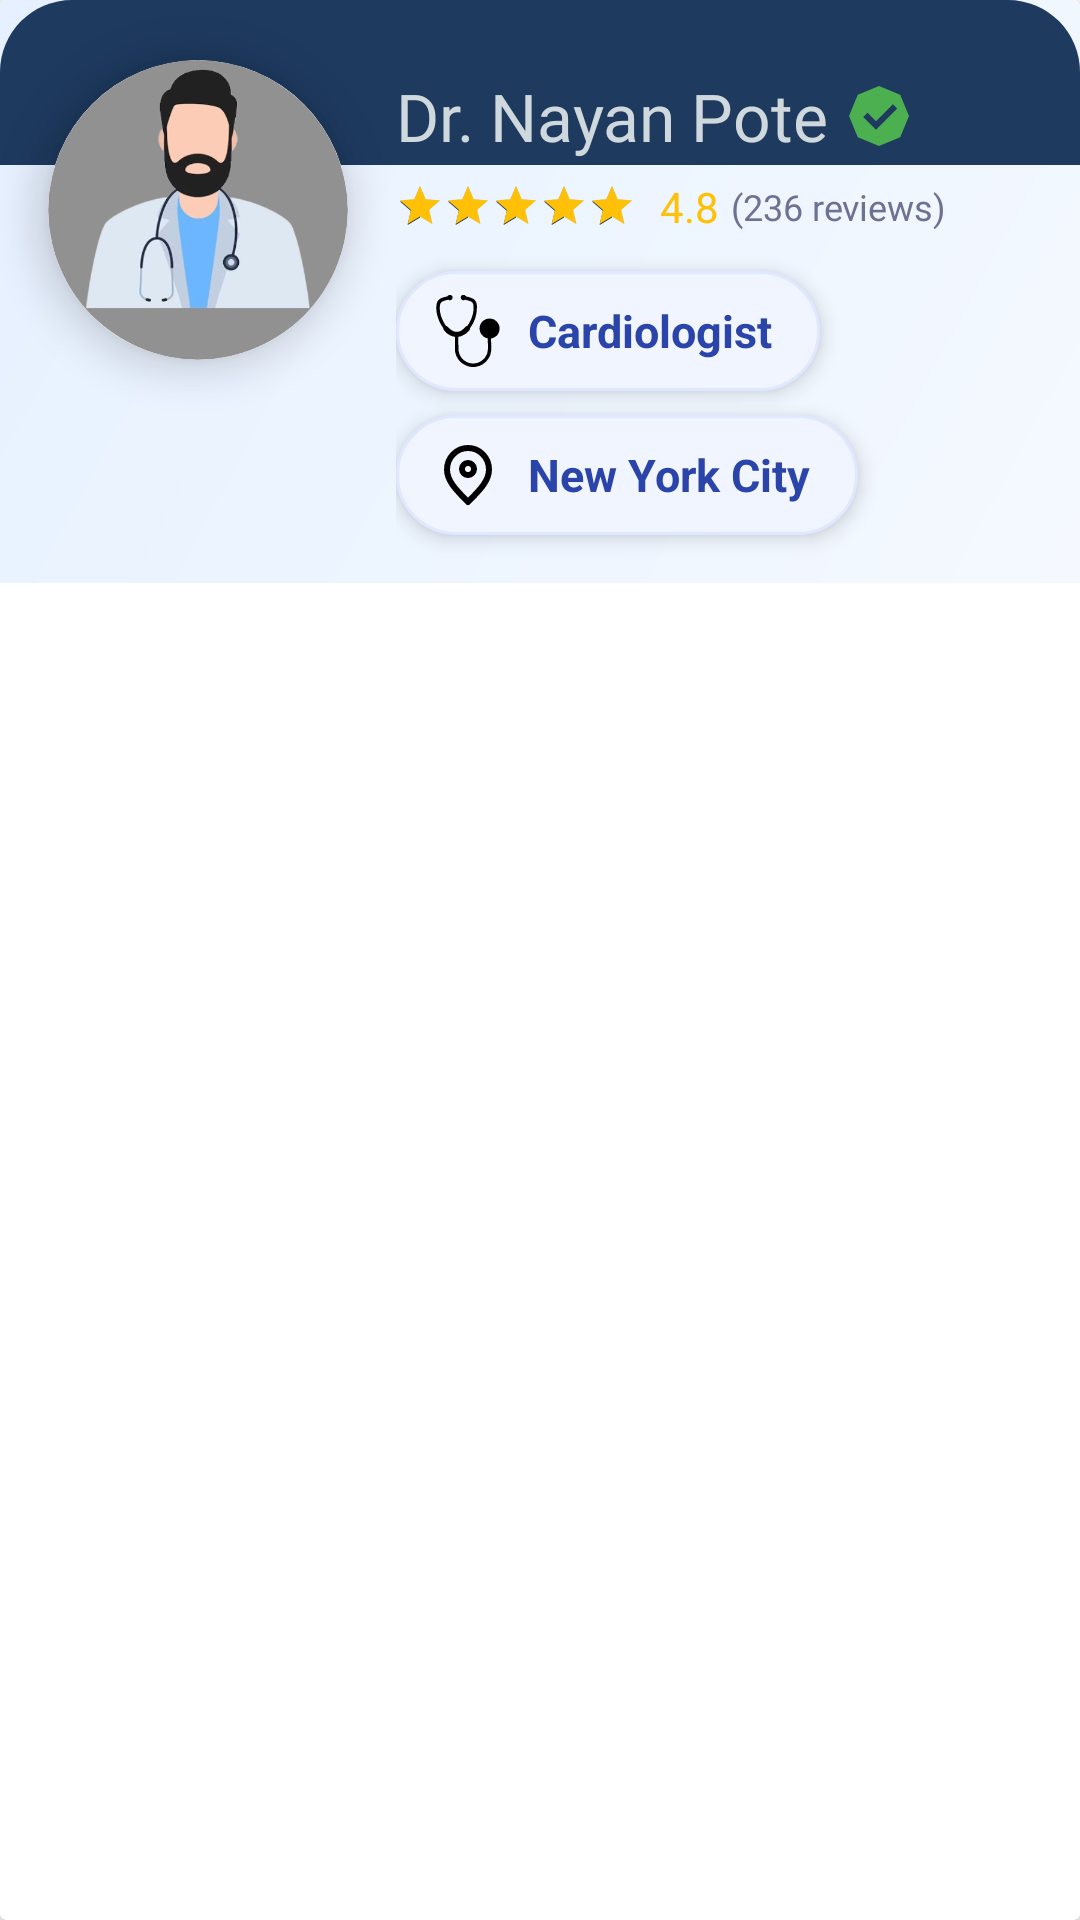

Named icons in this screenshot (1080px x 1920px) and their centers, point (x, y):
doctoravatar: point (198, 210)
locationpin: point (468, 475)
stethoscope: point (468, 331)
Verified Doctor: point (879, 116)
